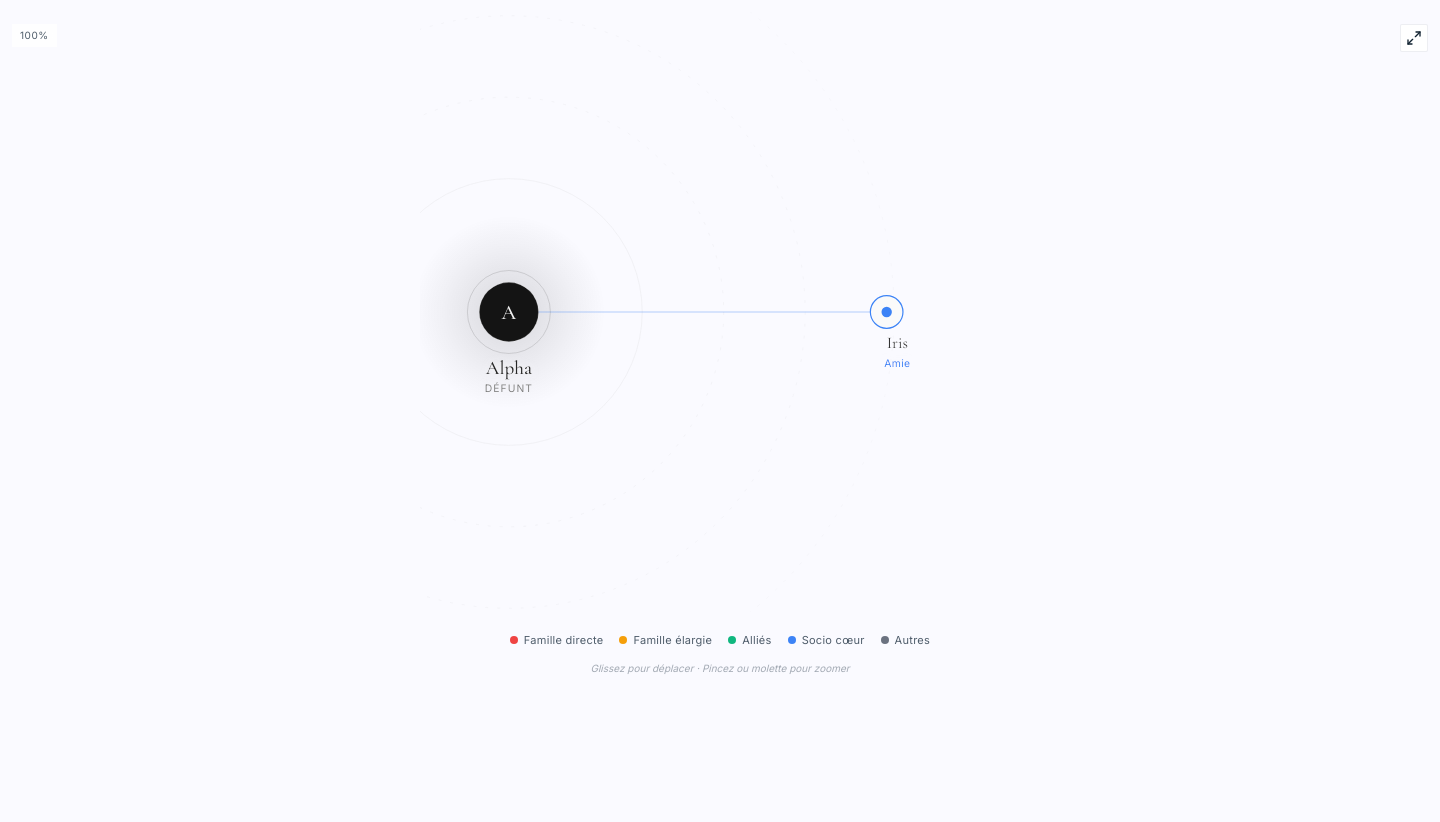
Test: Premium graph interactions › pinches proportionally within bounds without panning
The width and height of the screenshot is (1440, 822).
Press the mouse on the element with class "touch-none" at [720, 312], box [420,12,1020,612]
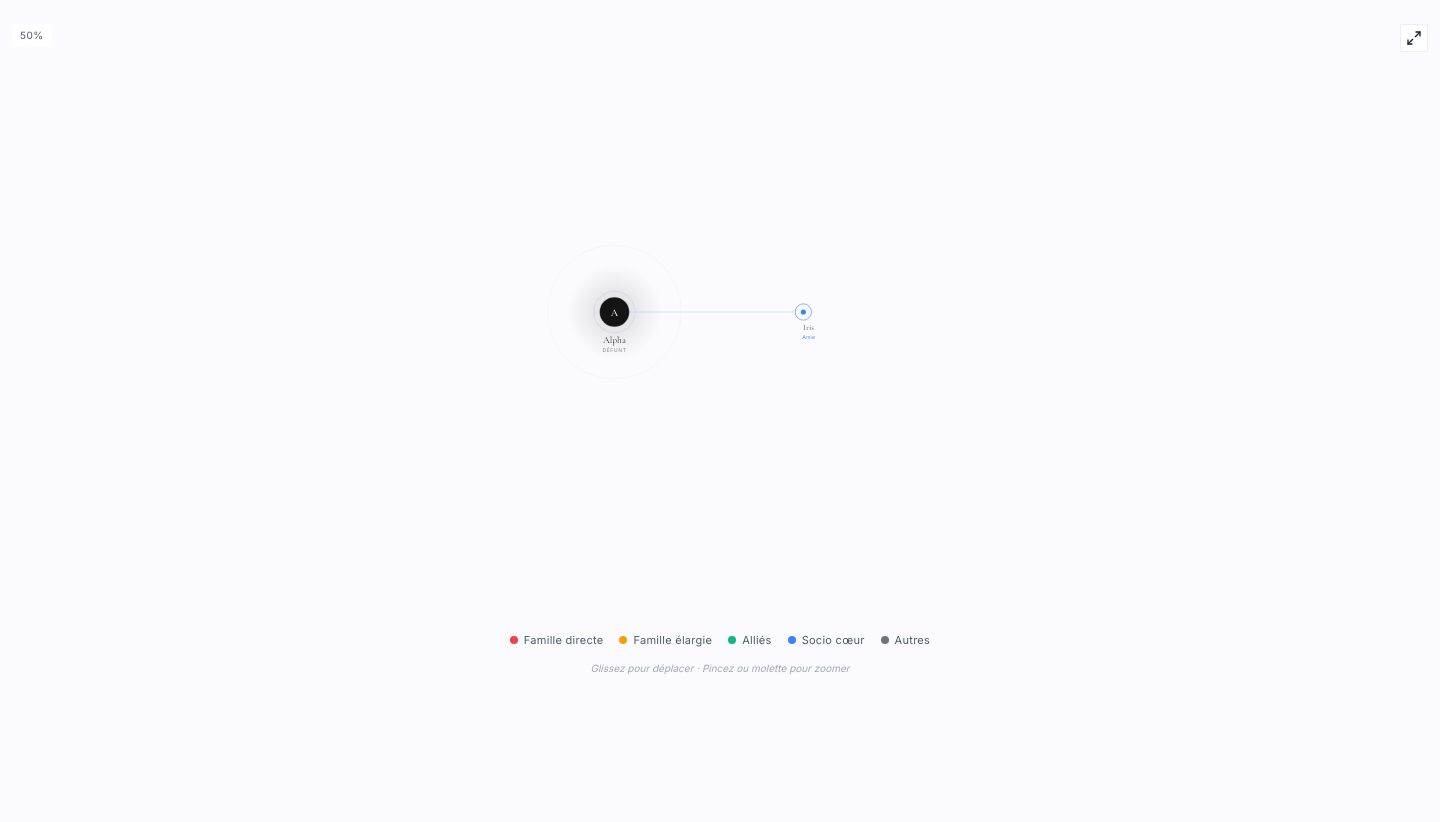
Expected: the text "50%" is shown, [12,24,52,47]
